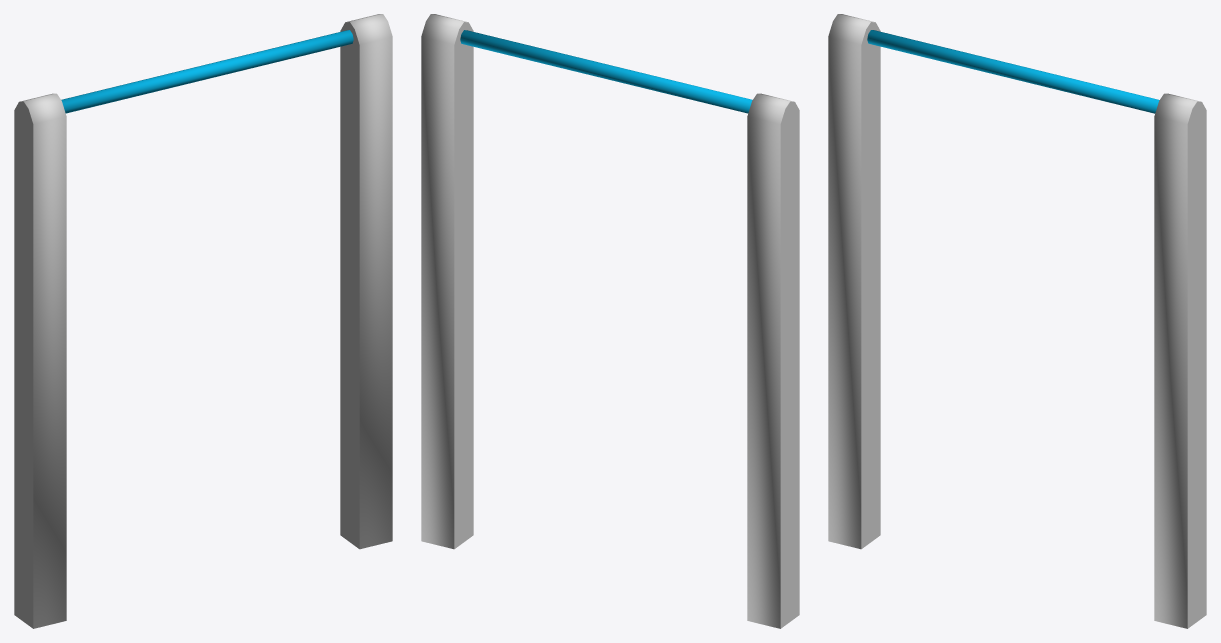
File: dominadas.fbx
3 renders of one model, left to right at view 1: azimuth 30°, elevation 25°; view 2: azimuth 150°, elevation 25°; view 3: azimuth 330°, elevation 25°, orthographic.
Visible parts, largest first — view 1: Cylinder; view 2: Cylinder; view 3: Cylinder.
Part boxes in pixels (<box>): Cylinder: <box>14,14,392,628</box>; Cylinder: <box>421,14,799,628</box>; Cylinder: <box>828,14,1206,628</box>.
Size of the model in its own units: 2164 by 2994 by 200.
